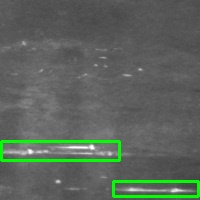scratches: (1, 141, 119, 160), (113, 181, 198, 196)
